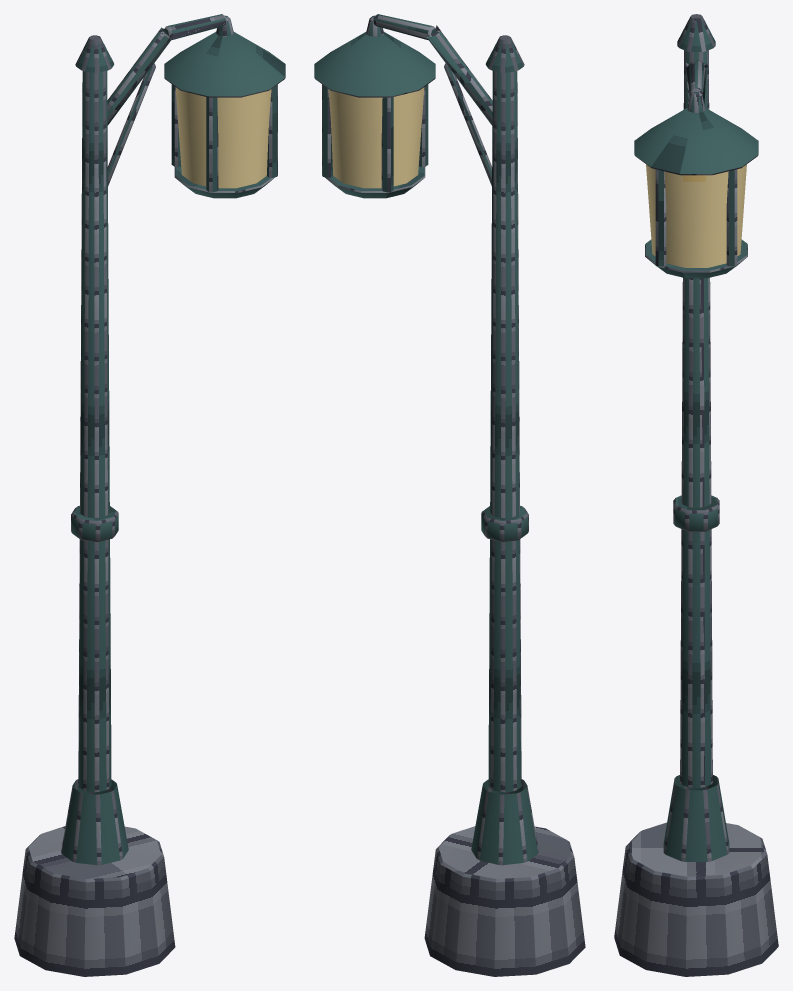
The model's file is street_lamp_0.glb.
The picture shows the model from 3 angles, left to right: view 1: azimuth 30°, elevation 25°; view 2: azimuth 150°, elevation 25°; view 3: azimuth 270°, elevation 25°; orthographic projection. The views are drawn at different scales.
Visible parts, largest first — view 1: street_lamp_1; view 2: street_lamp_1; view 3: street_lamp_1.
Boxes of the visible parts, x1,y1,x2,y2 form: street_lamp_1: (14,14,285,976); street_lamp_1: (314,14,585,976); street_lamp_1: (614,14,778,976).
Size of the model in its own units: 1 by 3.44 by 0.5552.
Materials: 3 (3 with a texture image).
